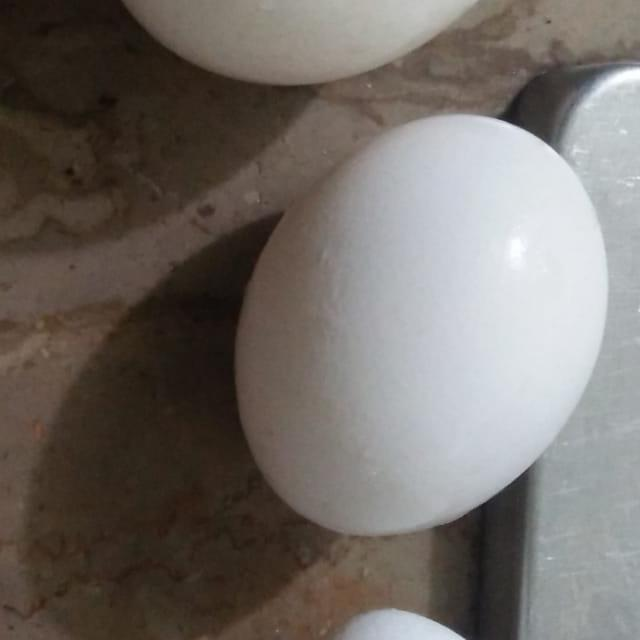egg: (230, 110, 610, 538), (86, 0, 558, 88)
